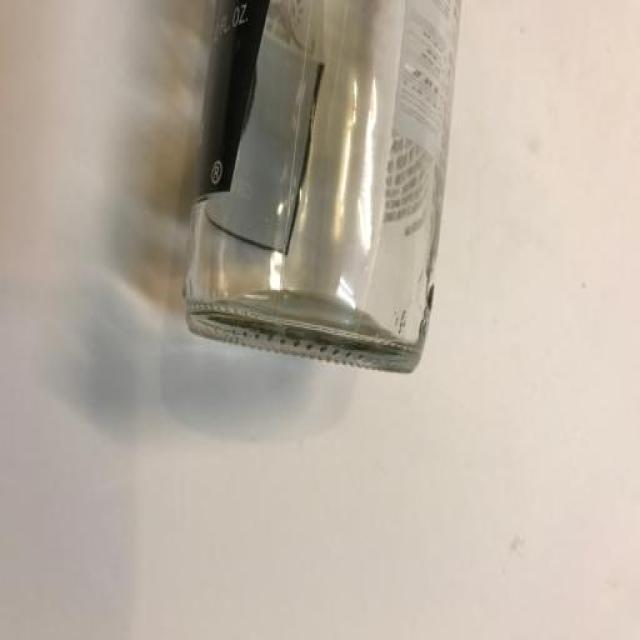glass: (142, 0, 473, 399)
